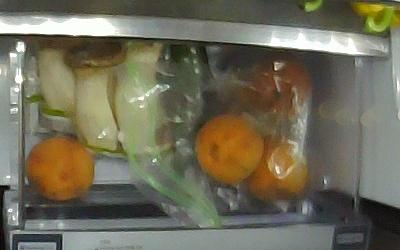peach: (195, 116, 264, 188), (27, 139, 94, 200)
peach_vinyl: (244, 59, 311, 129), (245, 135, 308, 200)
